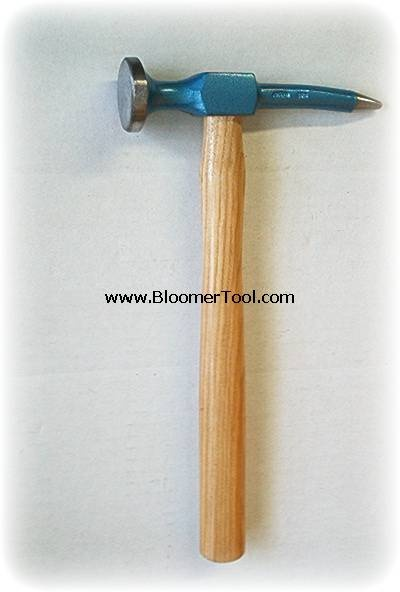hammer: (113, 55, 386, 559)
